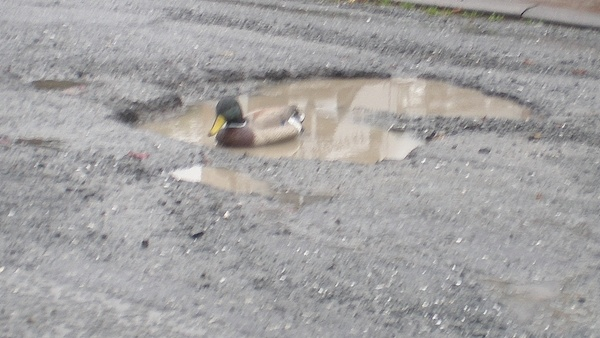pothole: (99, 31, 574, 196)
